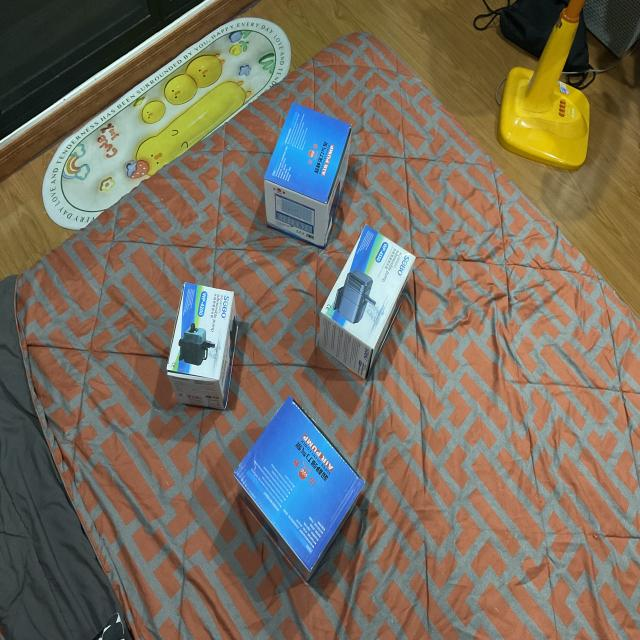SOBO_WP_4200: (306, 221, 426, 392), (163, 274, 244, 421)
YAMANO_LPP_20: (215, 384, 389, 587), (249, 94, 373, 253)
